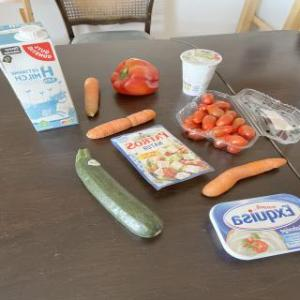bell_pepper: (106, 54, 168, 100)
carrot: (195, 153, 296, 204), (84, 104, 163, 146), (80, 72, 104, 124)
tomato: (233, 122, 259, 142), (198, 110, 219, 130), (192, 107, 212, 124), (210, 124, 234, 138), (214, 112, 234, 128), (200, 92, 218, 107)
zucchini: (68, 144, 164, 244)
